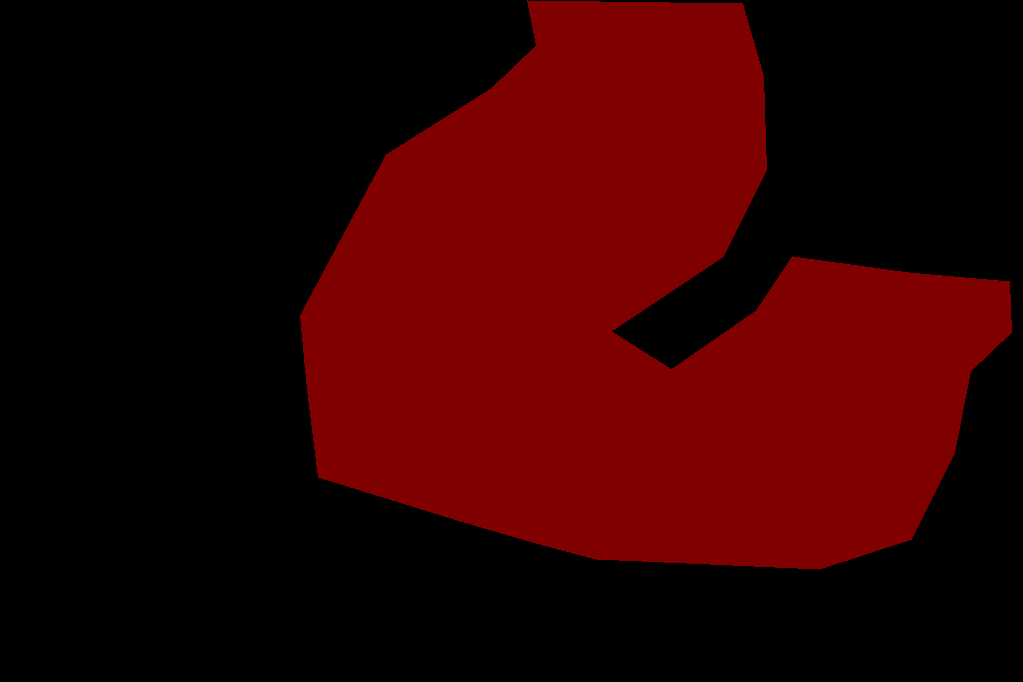fire: (300, 0, 1011, 569)
